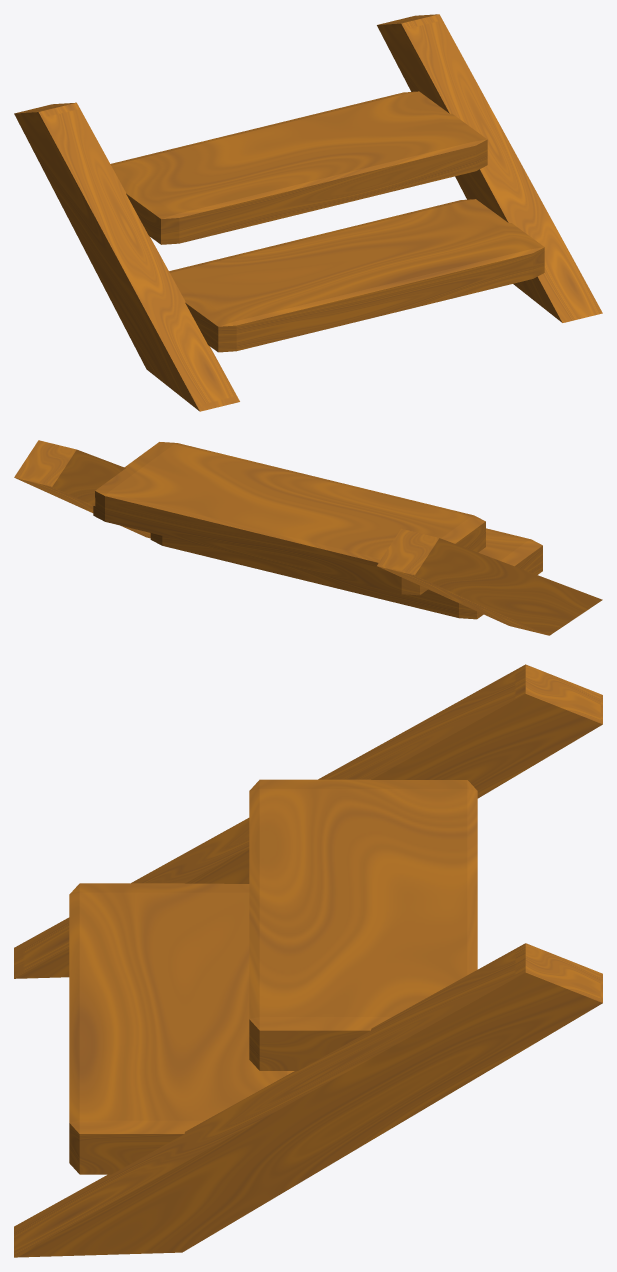
Rendered from merdiven.fbx.
The picture shows the model from 3 angles, top to bottom: view 1: azimuth 30°, elevation 25°; view 2: azimuth 150°, elevation 25°; view 3: azimuth 270°, elevation 25°; orthographic projection. The views are drawn at different scales.
Parts seen in each view (by area): view 1: Cube.029; view 2: Cube.029; view 3: Cube.029.
Boxes of the visible parts, x1,y1,x2,y2 form: Cube.029: (14, 14, 602, 411); Cube.029: (14, 440, 602, 635); Cube.029: (14, 664, 602, 1257).
Size of the model in its own units: 201 by 85.83 by 161.
Materials: 1 (1 with a texture image).
